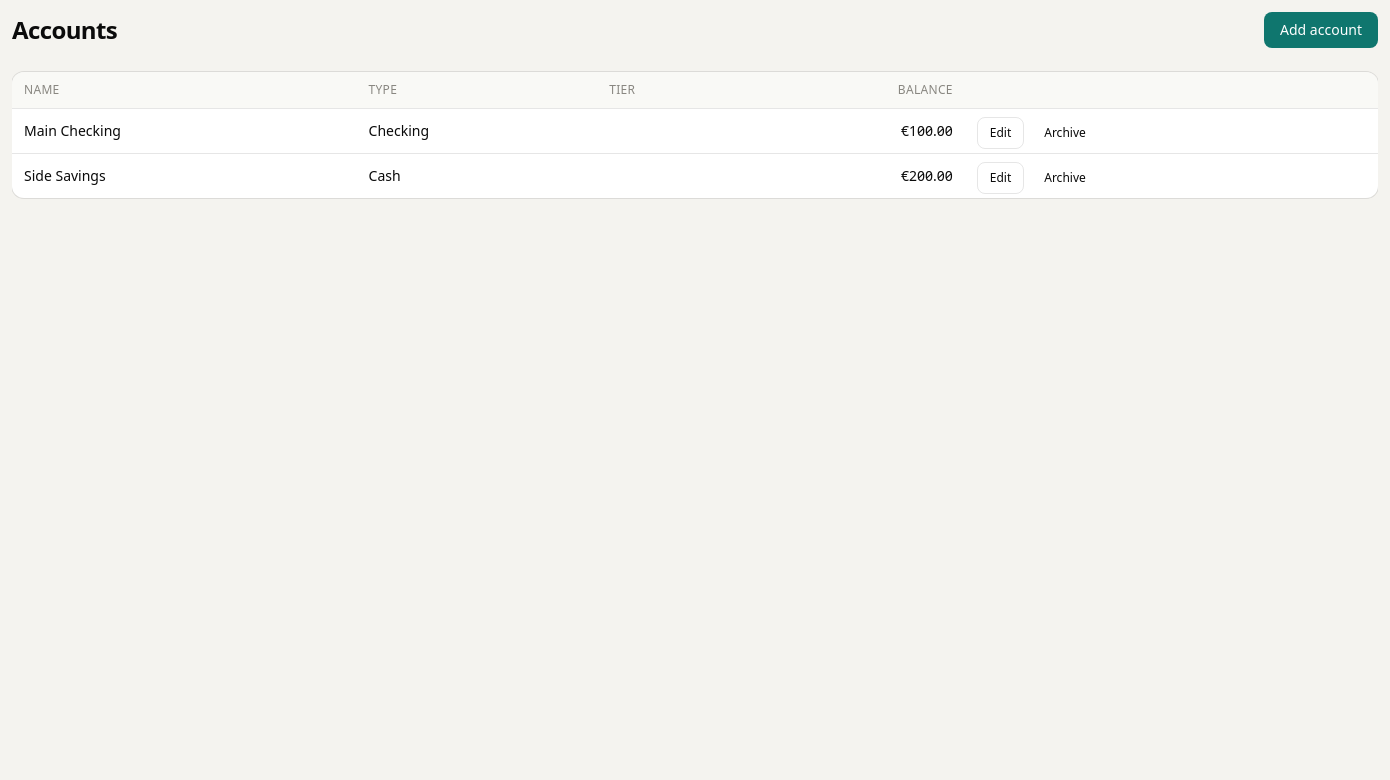
AccountsPage › rejects a negative amount owed
Click the button "Add account": (1321, 30) [1264,12,1378,48]
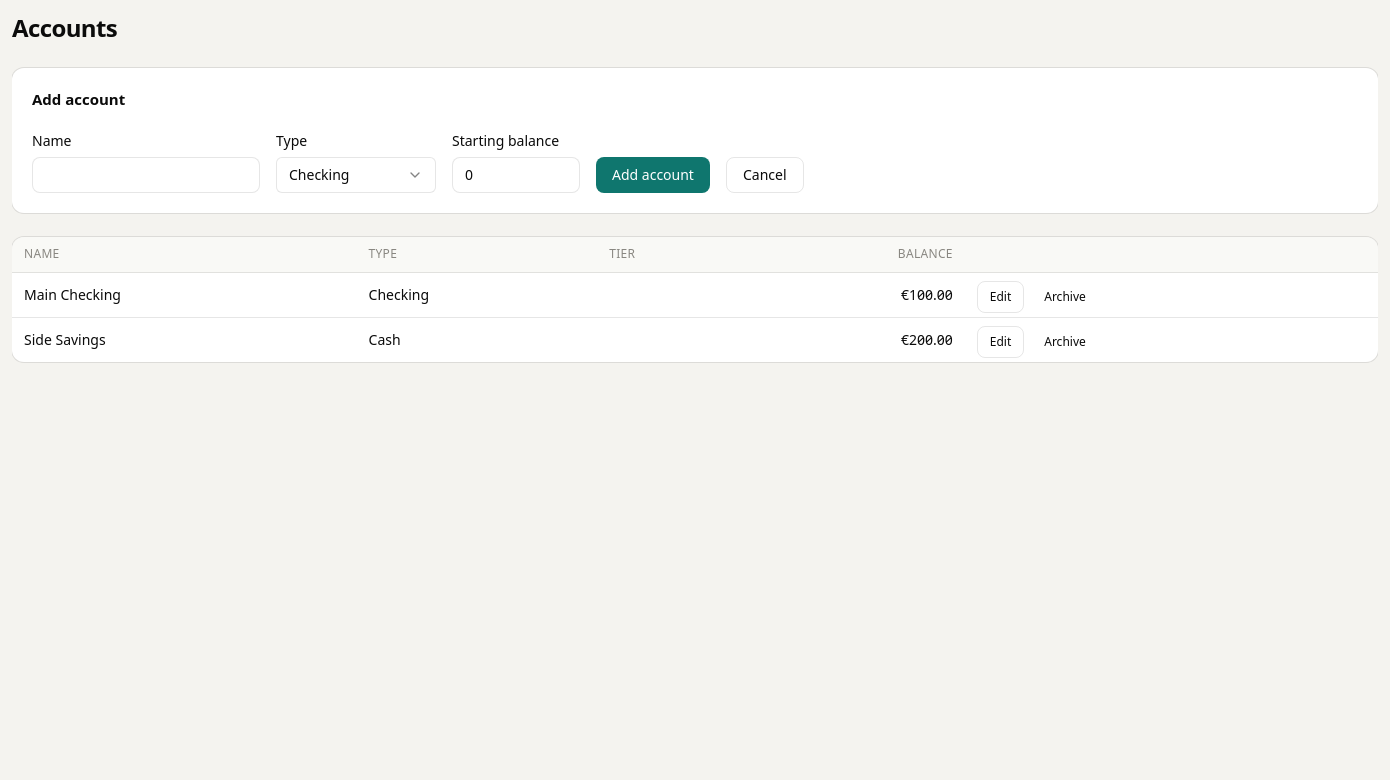
In the field labelled "Name": (146, 174) [32,156,260,192], type "Mortgage"
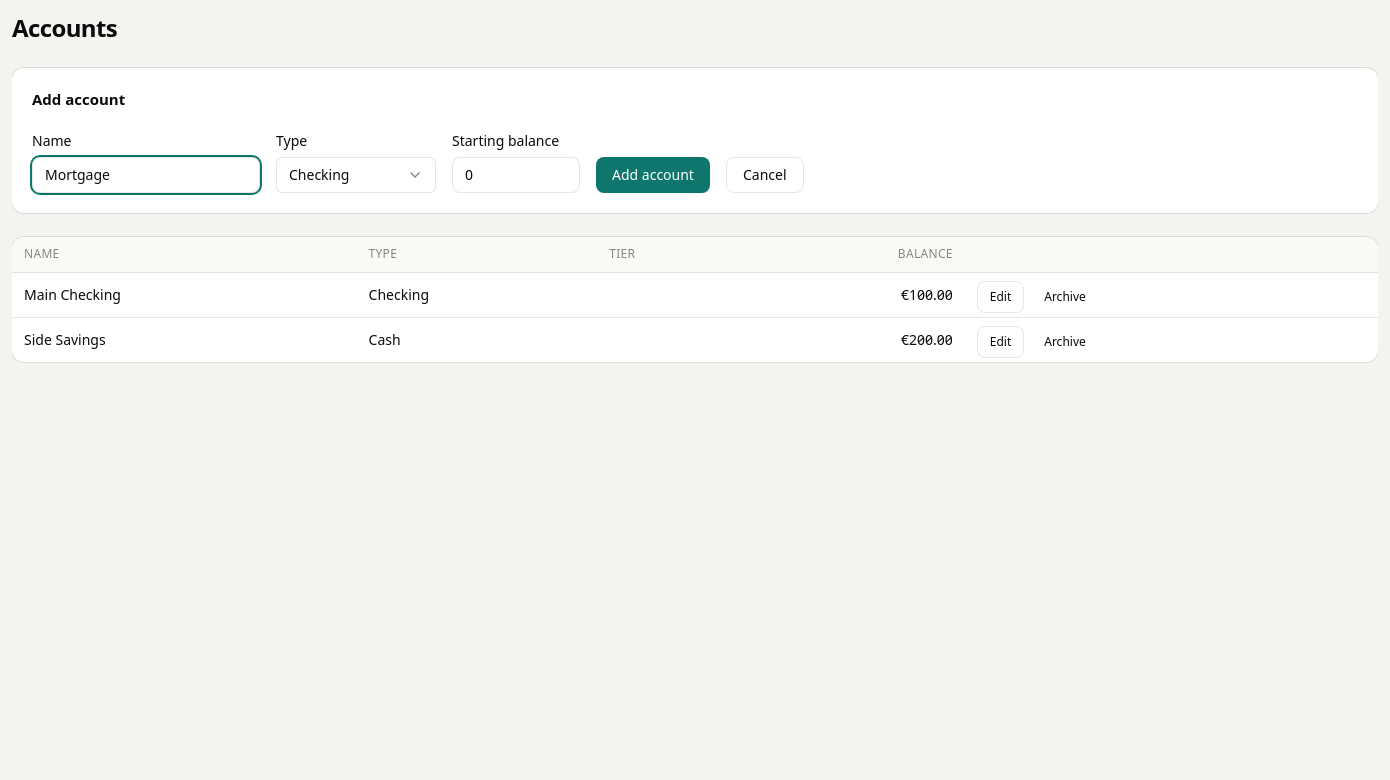
Click the dropdown named "Account type": (356, 174) [276,156,436,192]
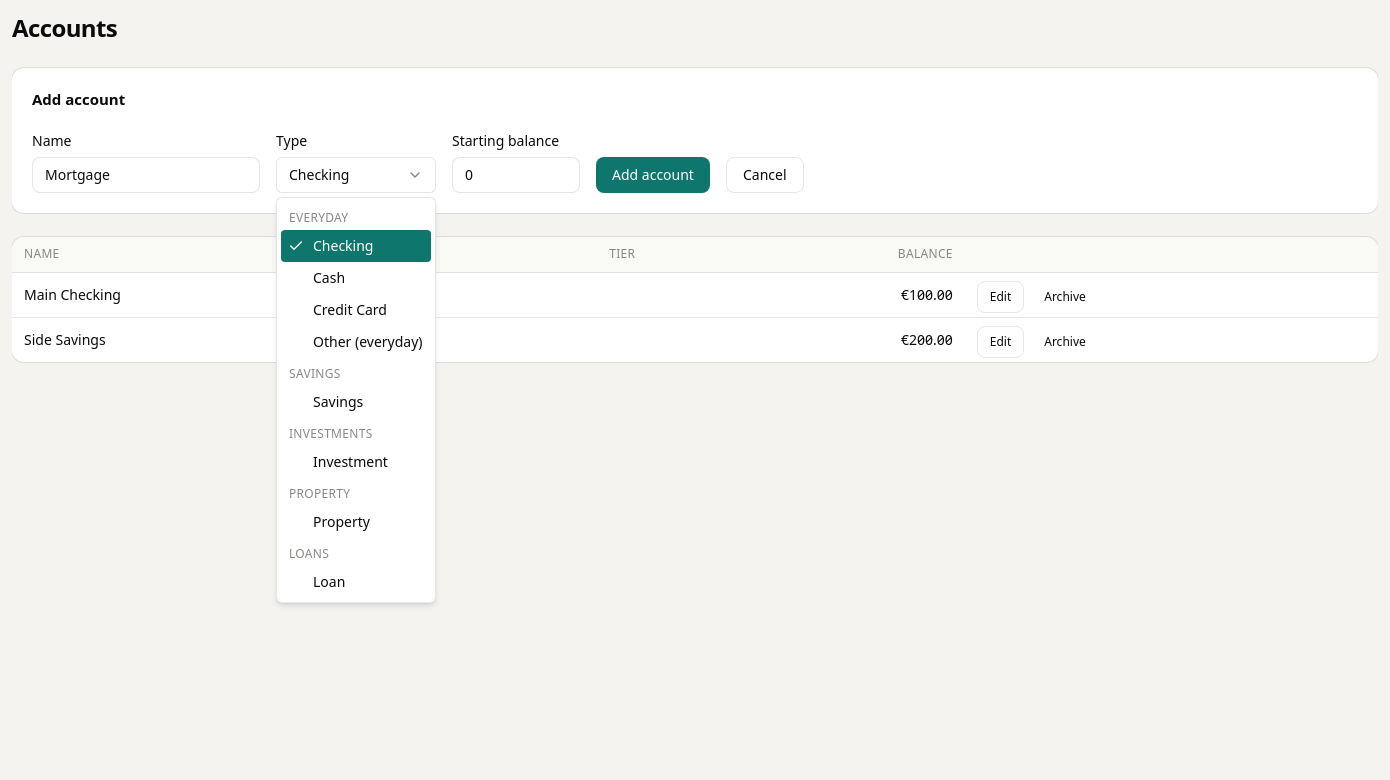
Click the option "Loan": (329, 582) [313,572,345,591]
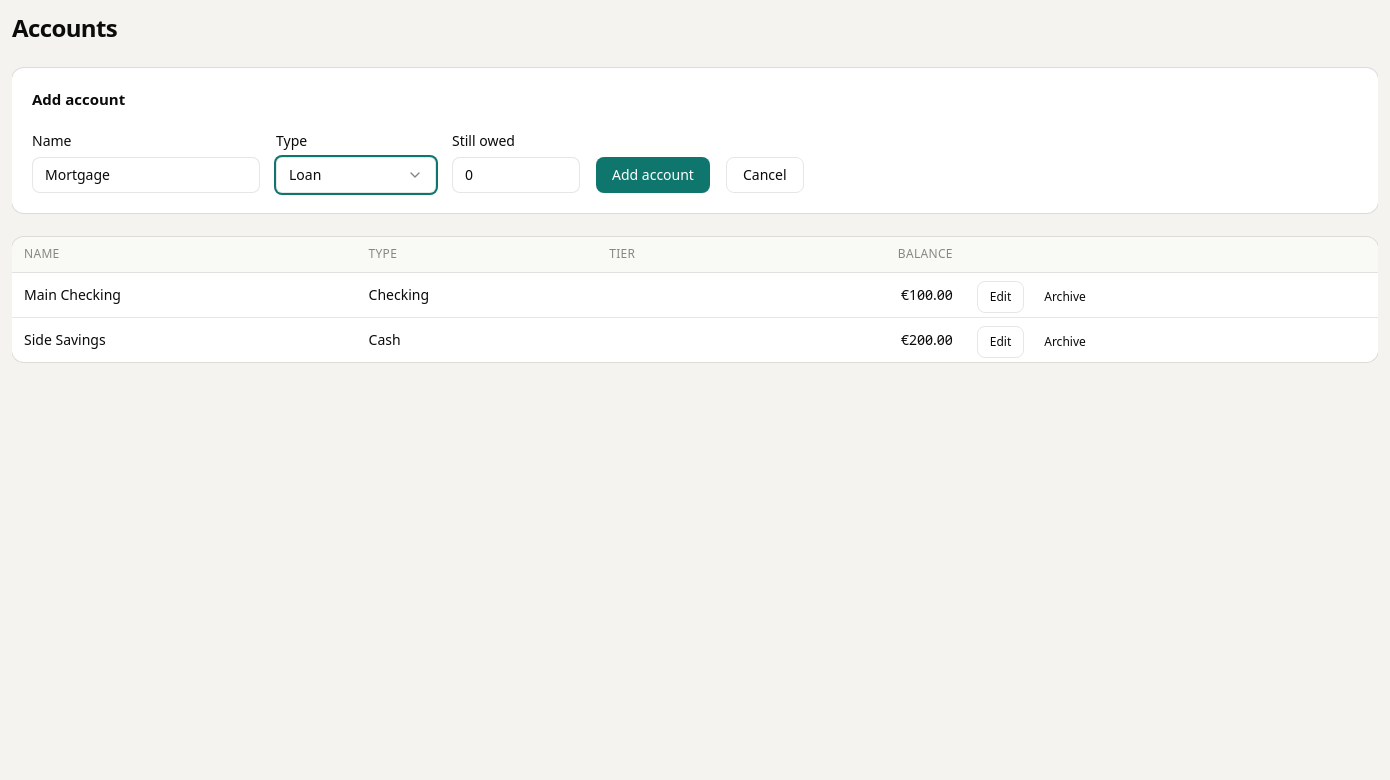
Replace the text in the number field labelled "Still owed" with "-250000": (516, 174) [452,156,580,192]
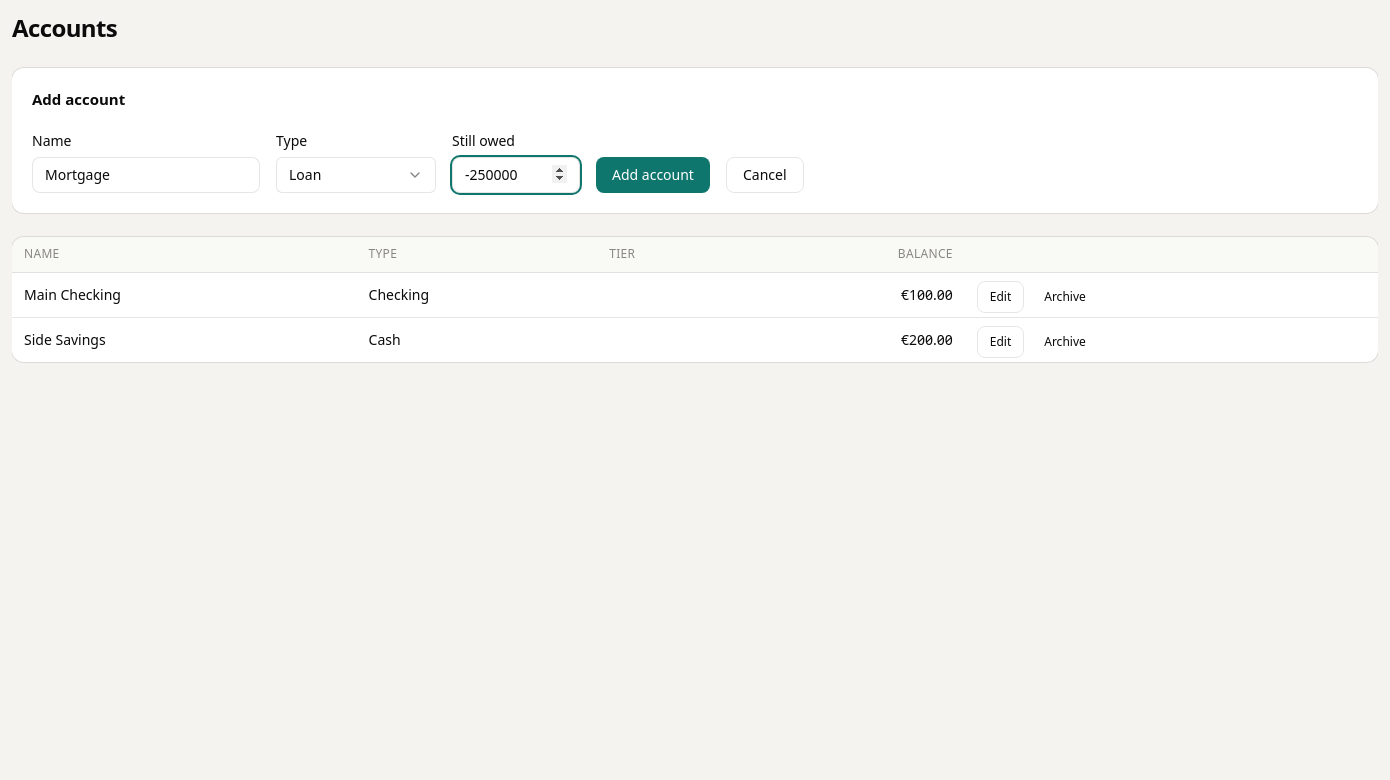
Click the button "Add account": (653, 174) [596,156,710,192]
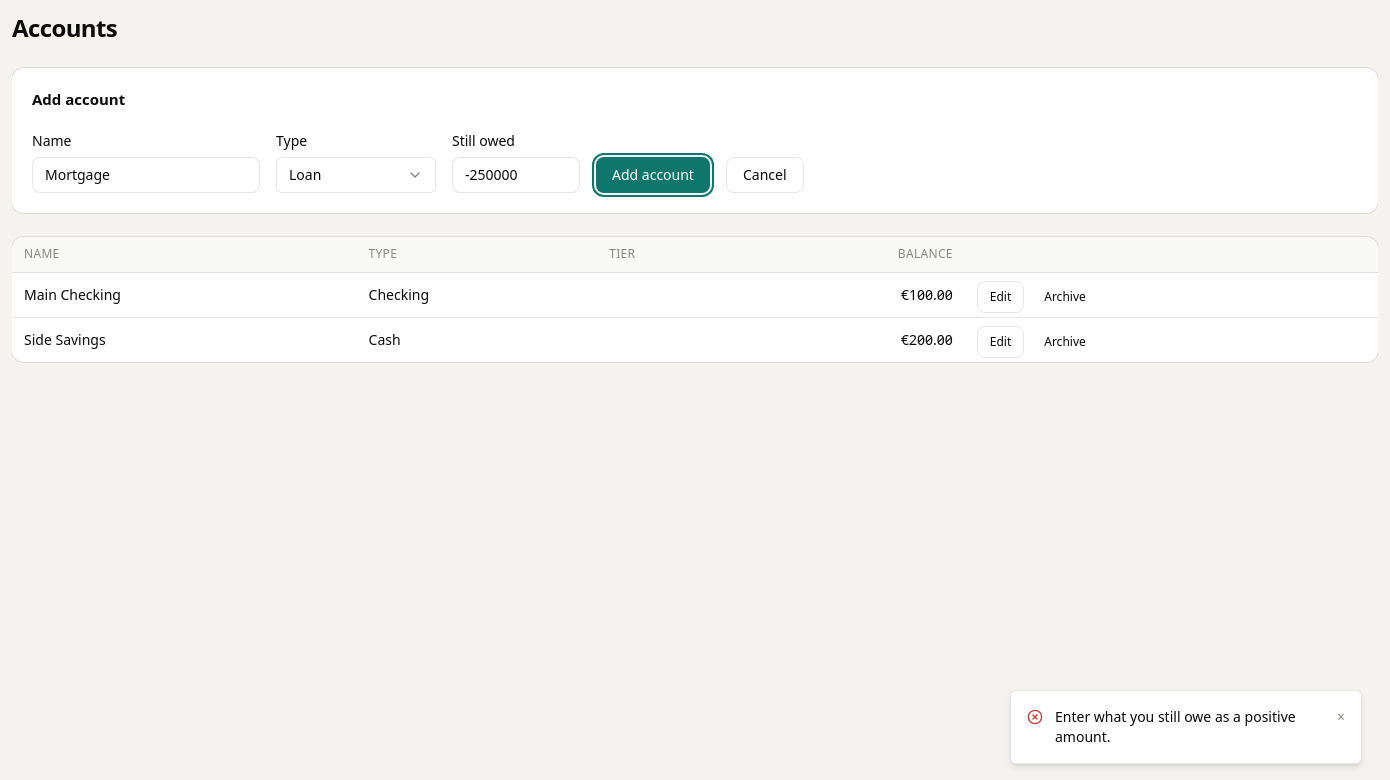
Expected: the text "Enter what you still owe as a positive amount." is shown, [1055,707,1325,747]
